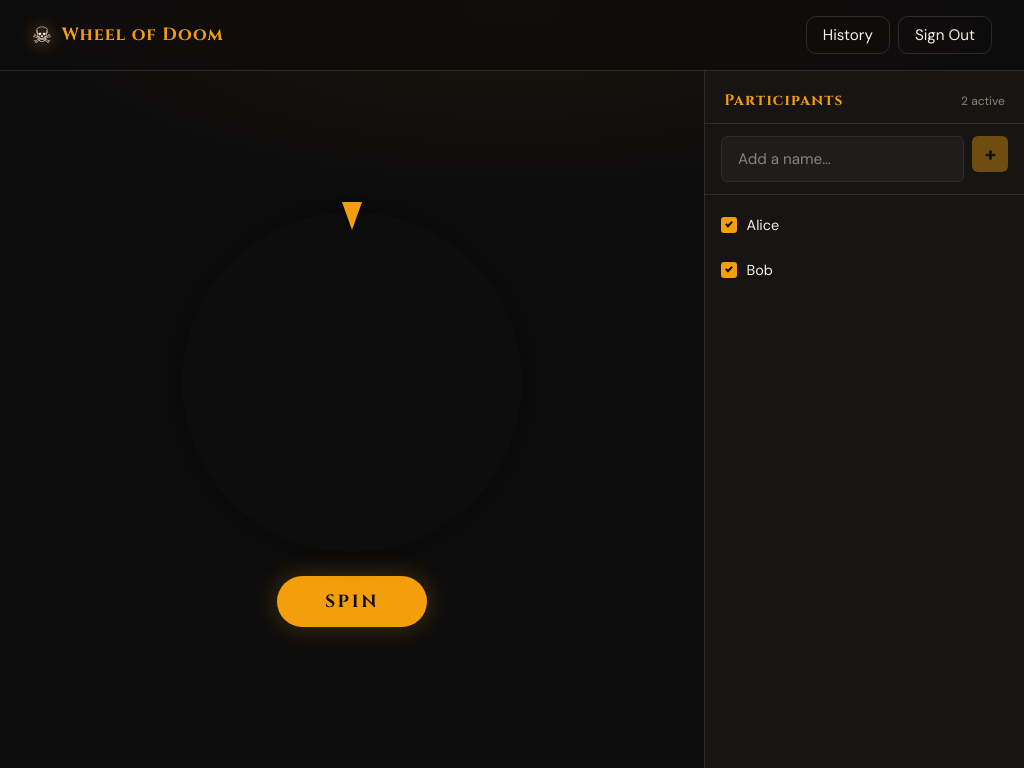
MainPage › shows an error when adding a participant fails
Expected: the text "Alice" is shown, [747,216,779,234]
Type "Cara" into the field with placeholder "Add a name…" at (842, 159), box [721,136,964,182]
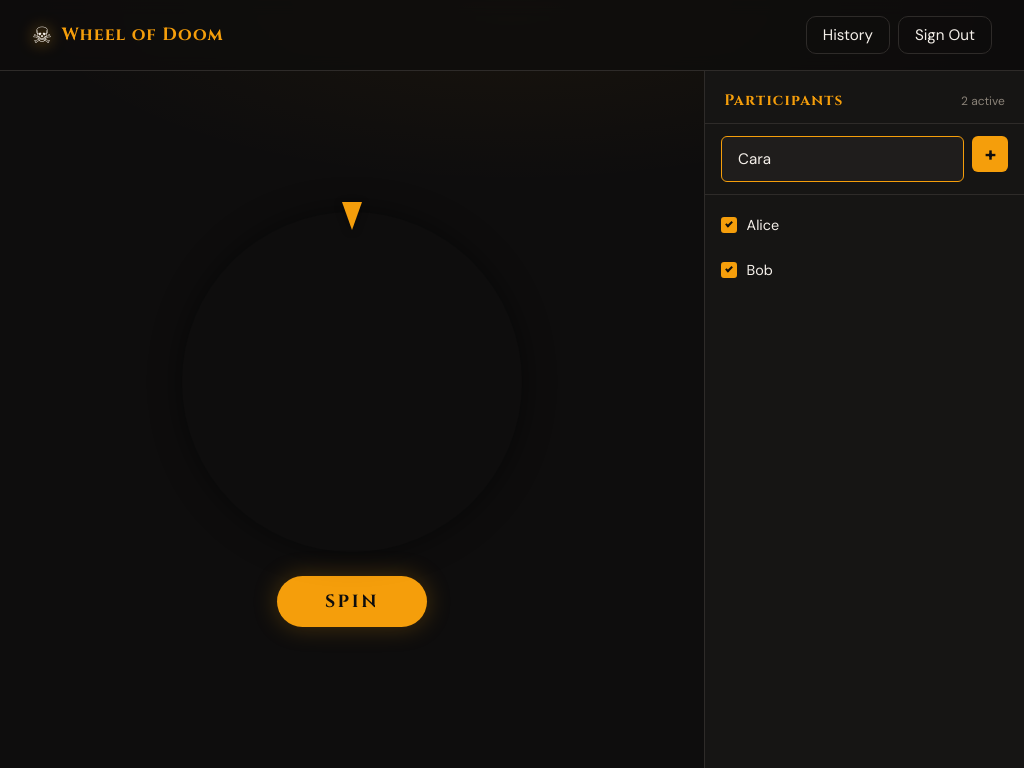
Click the button "+" at (990, 154), box [972,136,1008,172]
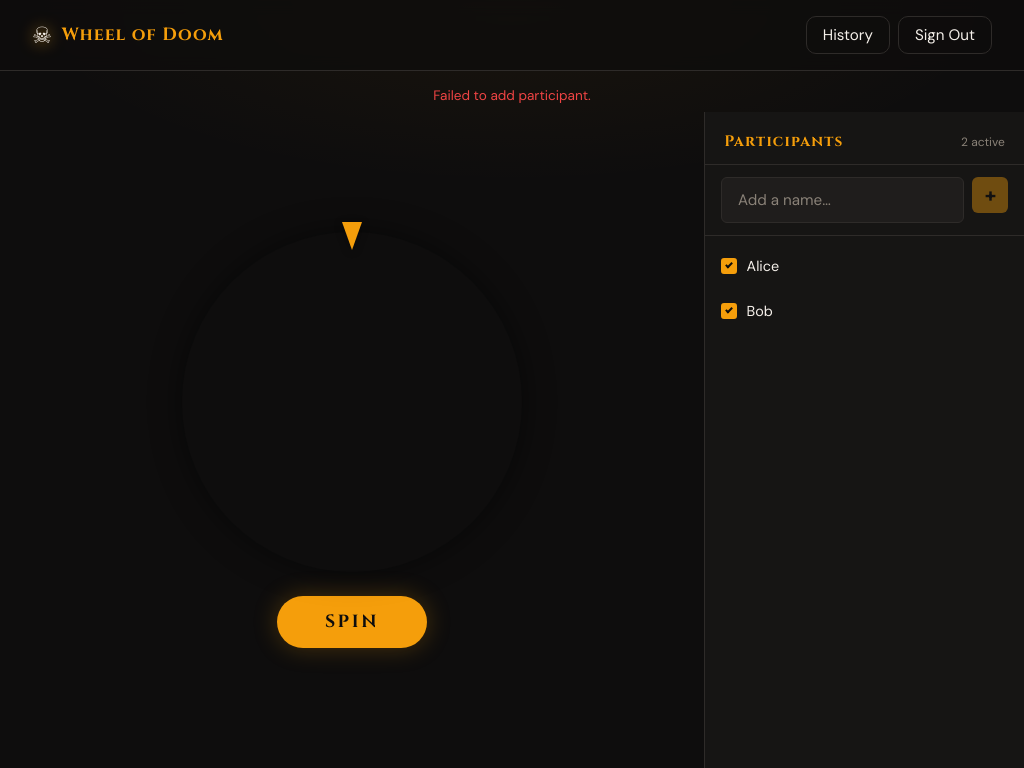
Expected: the text "Failed to add participant." is shown, [433,87,591,104]
